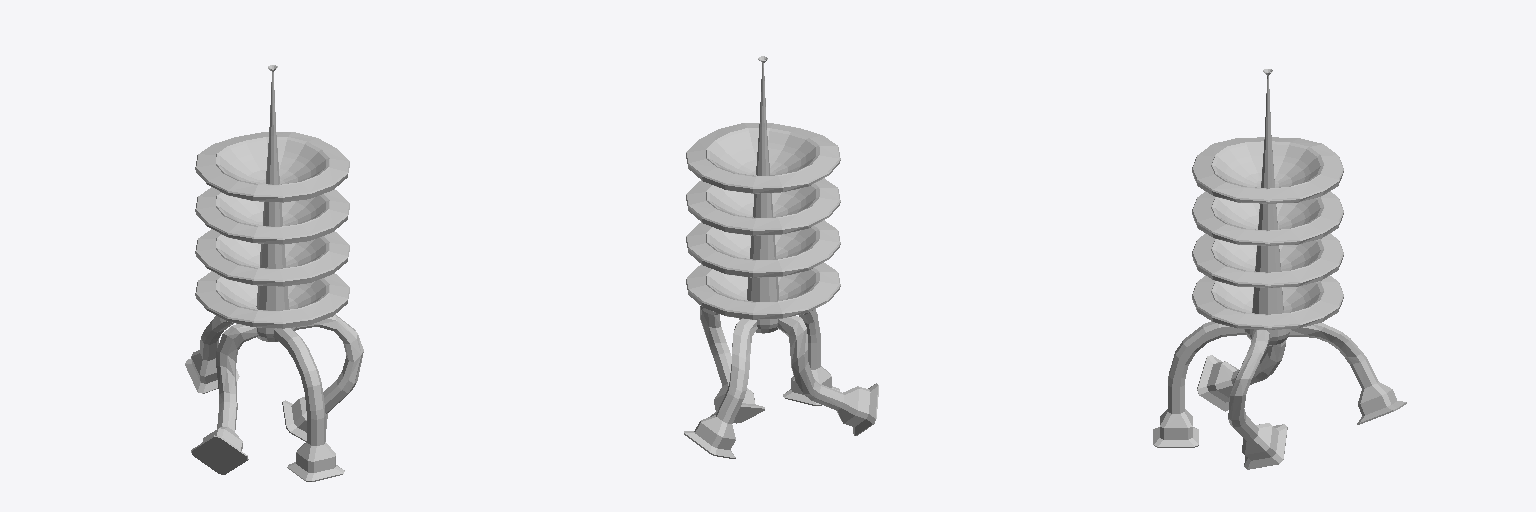
The model's file is spaceRand_01.obj.
3 renders of one model, left to right at view 1: azimuth 30°, elevation 25°; view 2: azimuth 150°, elevation 25°; view 3: azimuth 270°, elevation 25°, orthographic.
Visible parts, largest first — view 1: spaceRand_01 randSpace_grp; view 2: spaceRand_01 randSpace_grp; view 3: spaceRand_01 randSpace_grp.
Boxes of the visible parts, x1=… form: spaceRand_01 randSpace_grp: x1=185, y1=65, x2=363, y2=481; spaceRand_01 randSpace_grp: x1=684, y1=56, x2=878, y2=458; spaceRand_01 randSpace_grp: x1=1153, y1=69, x2=1406, y2=469.
Size of the model in its own units: 710 by 1494 by 899.